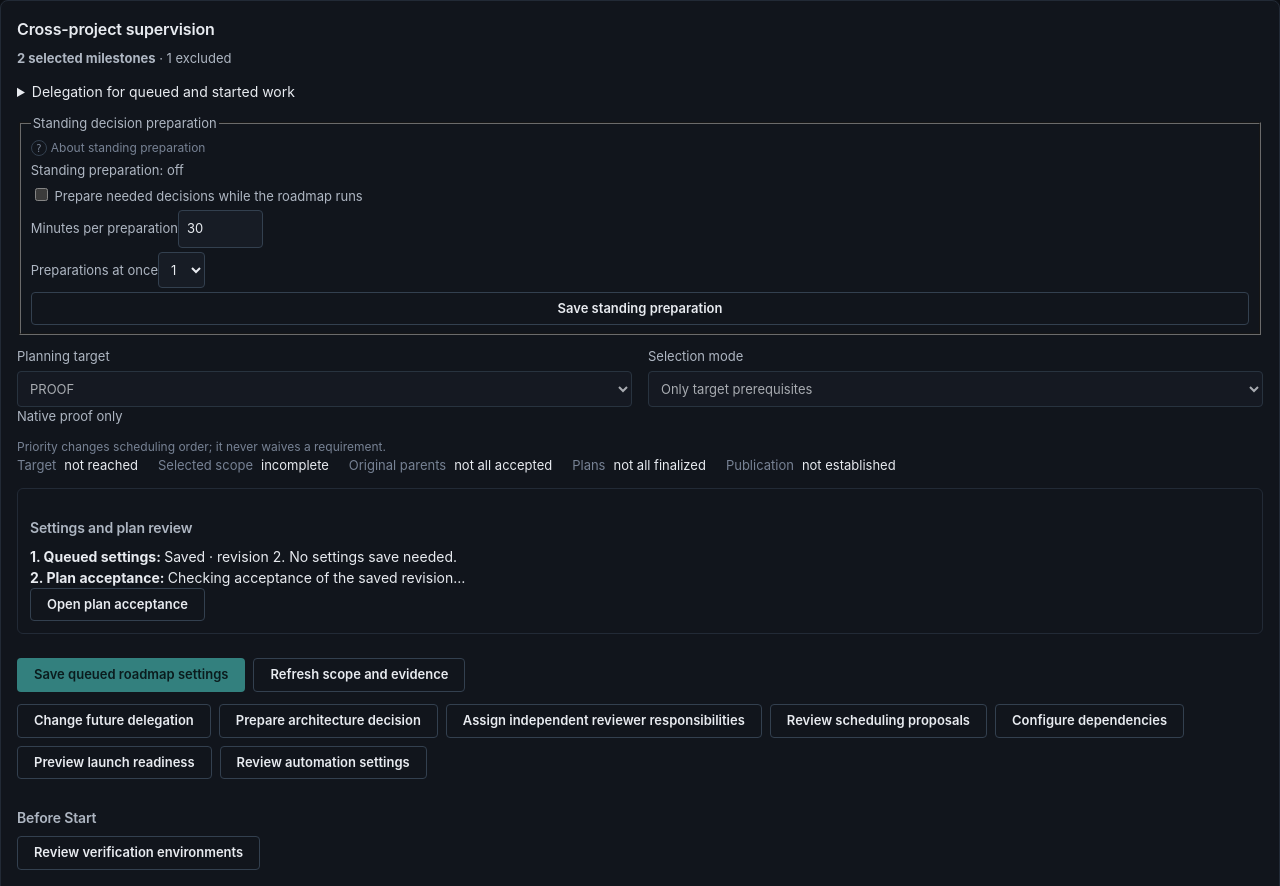
Test: edits a running roadmap’s queued settings, and says what its started items keep (R-B6, decision 5)
Click the button "Assign independent reviewer responsibilities": (604, 721) x1=446 y1=704 x2=762 y2=738
(page scrolled)
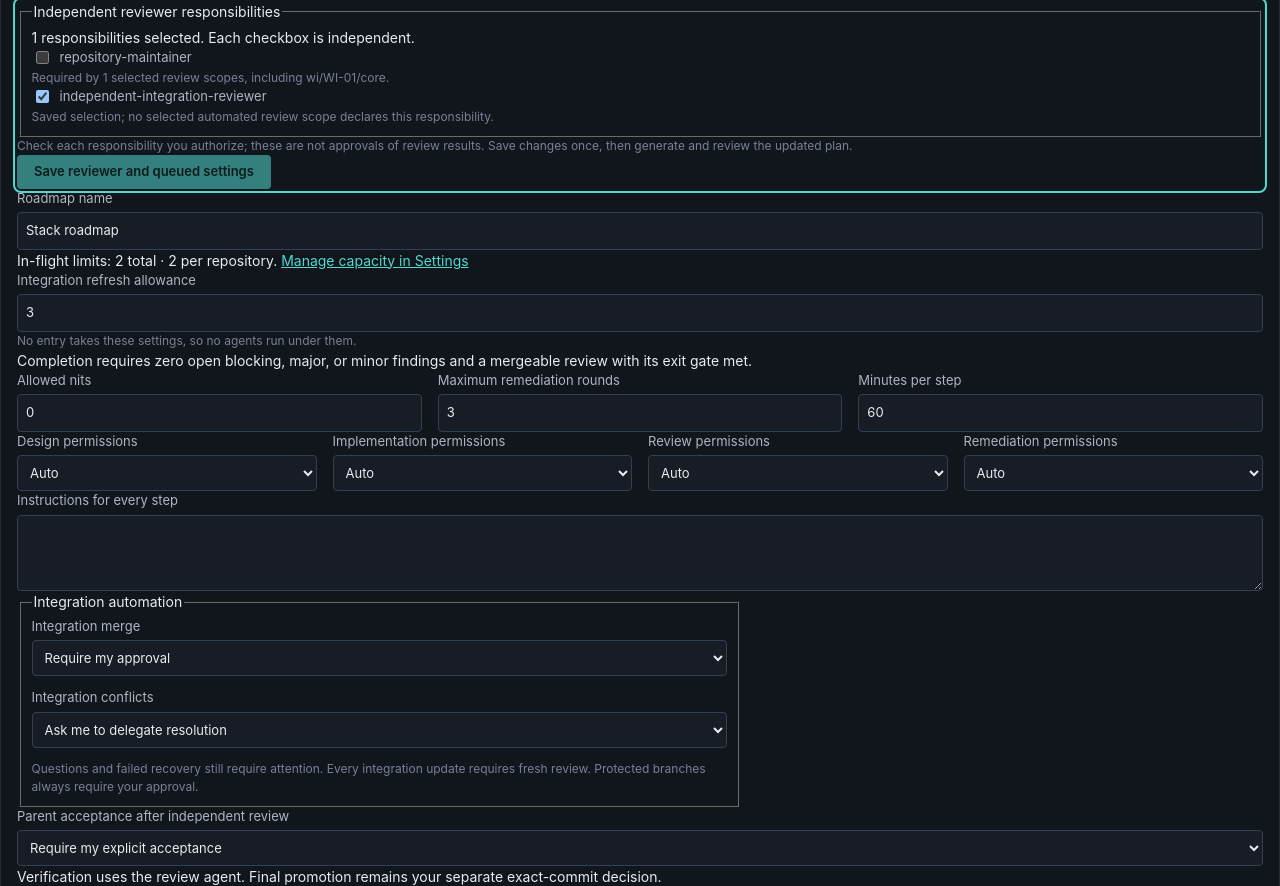
Check: the button "Save reviewer and queued settings" is shown, box x1=17 y1=155 x2=271 y2=189
